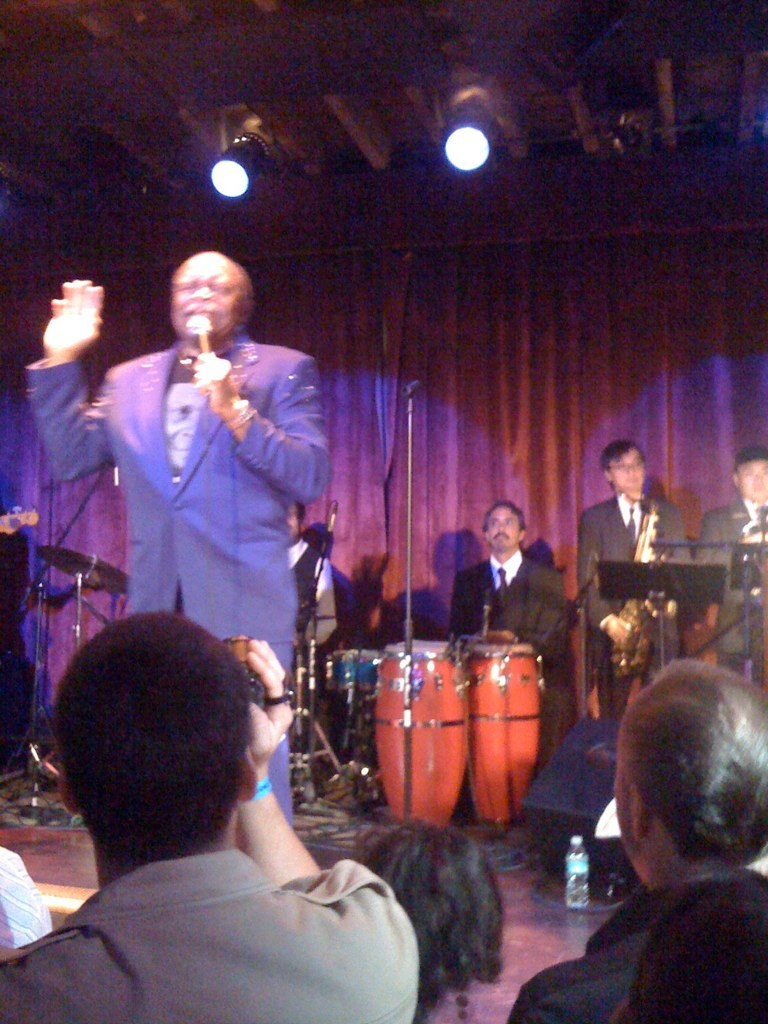Human_hand: (234, 631, 296, 780), (32, 262, 110, 365), (192, 345, 236, 418), (605, 609, 633, 650), (738, 531, 763, 556)
